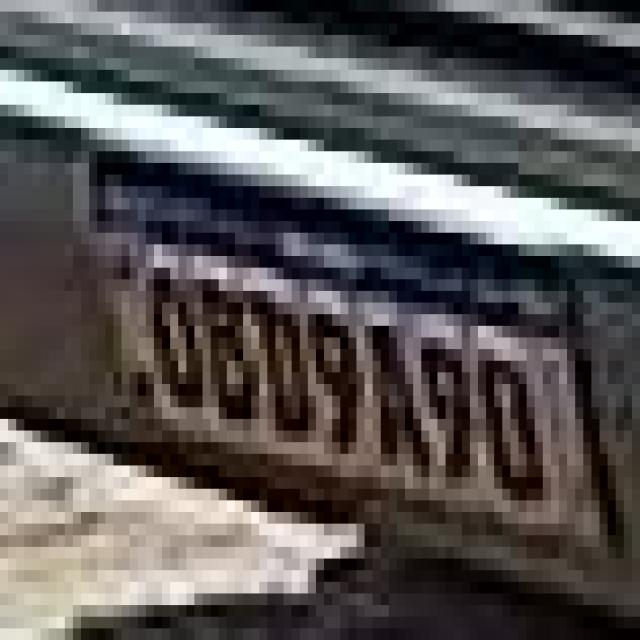0: (478, 340, 547, 536)
9: (414, 333, 477, 501), (311, 300, 364, 450)
A: (362, 305, 427, 483)
B: (202, 276, 262, 440)
D: (252, 260, 308, 467)
O: (143, 250, 200, 411)
